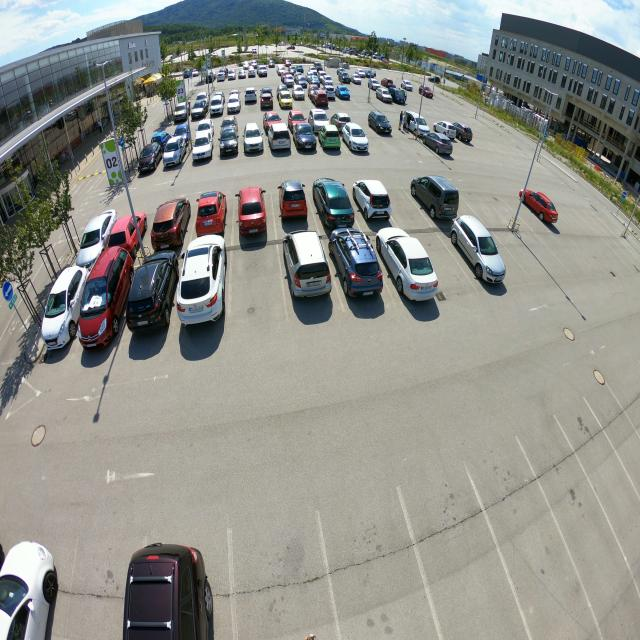empty: (328, 513, 408, 604), (234, 524, 317, 605), (498, 496, 556, 603), (421, 506, 488, 598), (68, 539, 113, 640), (568, 481, 610, 579), (237, 245, 283, 333), (426, 236, 461, 292), (552, 234, 586, 290), (391, 180, 421, 227), (518, 236, 547, 284), (467, 176, 498, 219)
occupied: (120, 526, 208, 640), (5, 532, 61, 640), (77, 254, 126, 351), (178, 238, 232, 326), (455, 213, 510, 297), (125, 253, 177, 341), (384, 224, 436, 311), (334, 228, 386, 309), (281, 230, 333, 310), (38, 260, 82, 350), (408, 168, 458, 218), (312, 172, 356, 228), (231, 181, 271, 239), (522, 179, 562, 231), (151, 195, 191, 246), (354, 171, 392, 221), (77, 205, 107, 266), (194, 184, 229, 235), (275, 175, 309, 221), (112, 203, 144, 249)
